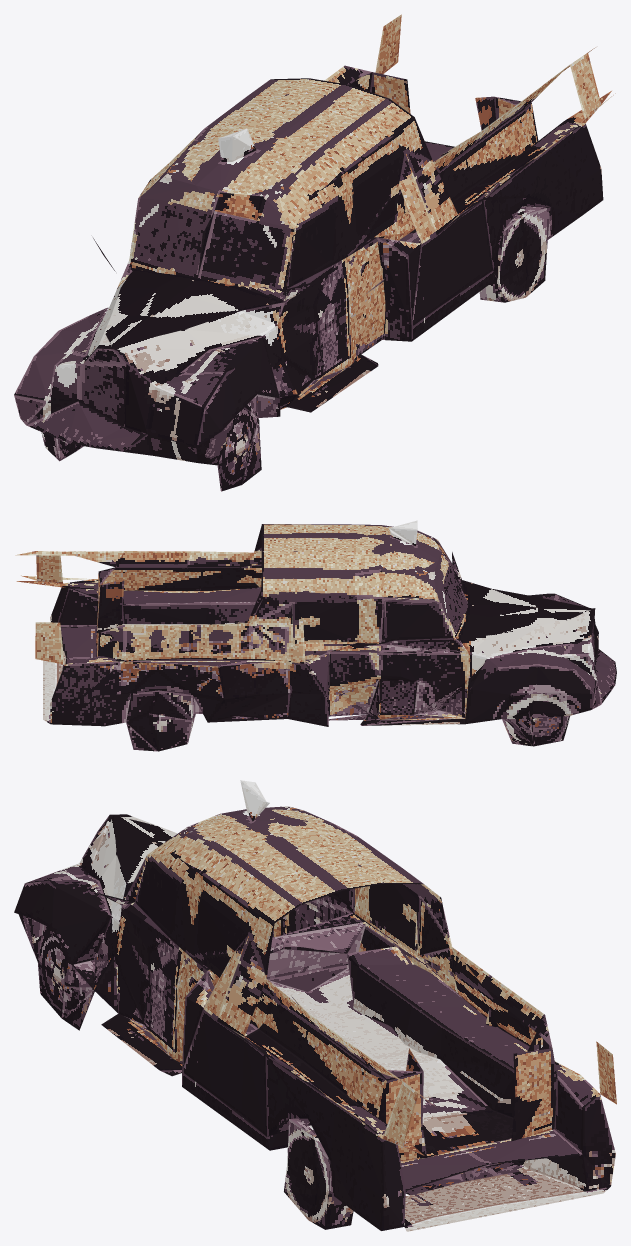
Rendered from fire.glb.
The picture shows the model from 3 angles, top to bottom: view 1: azimuth 30°, elevation 25°; view 2: azimuth 150°, elevation 25°; view 3: azimuth 270°, elevation 25°; orthographic projection. The views are drawn at different scales.
Visible parts, largest first — view 1: model_v; view 2: model_v; view 3: model_v.
Boxes of the visible parts, left/top/right/bottom form: model_v: left=14, top=14, right=615, bottom=491; model_v: left=15, top=520, right=616, bottom=751; model_v: left=14, top=780, right=616, bottom=1231.
Size of the model in its own units: 48.88 by 18.4 by 35.09.
Materials: 1 (1 with a texture image).
